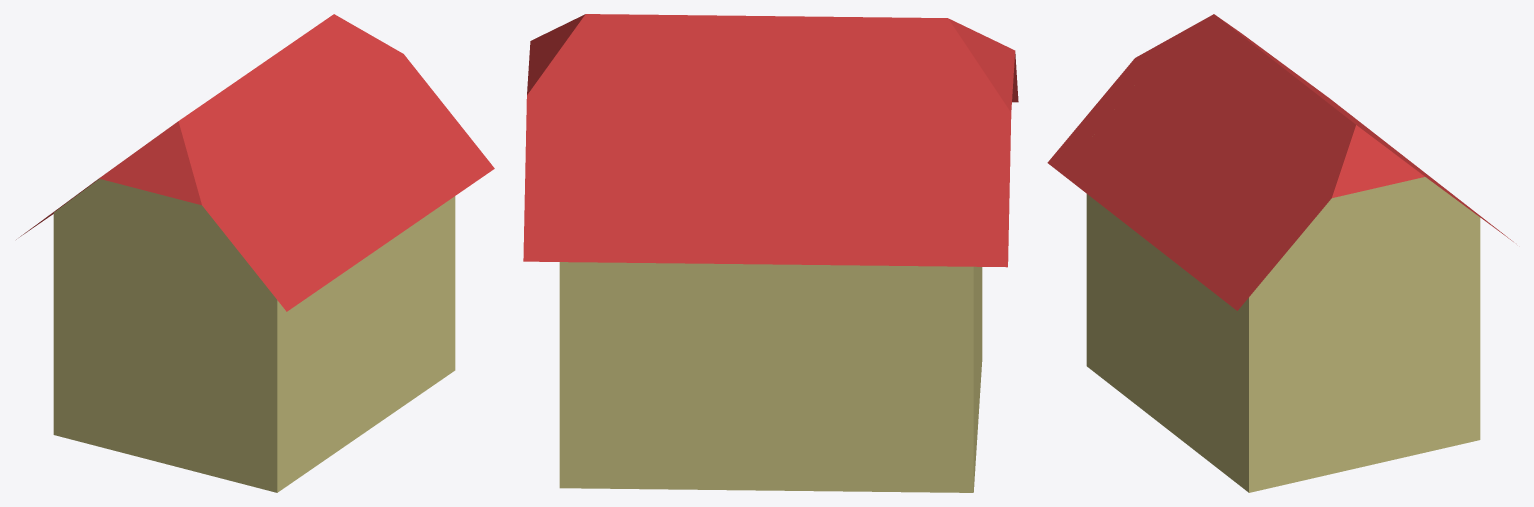
3 renders of one model, left to right at view 1: azimuth 30°, elevation 25°; view 2: azimuth 150°, elevation 25°; view 3: azimuth 270°, elevation 25°, orthographic. The views are drawn at different scales.
Size of the model in its own units: 17.38 by 16.3 by 12.75.
